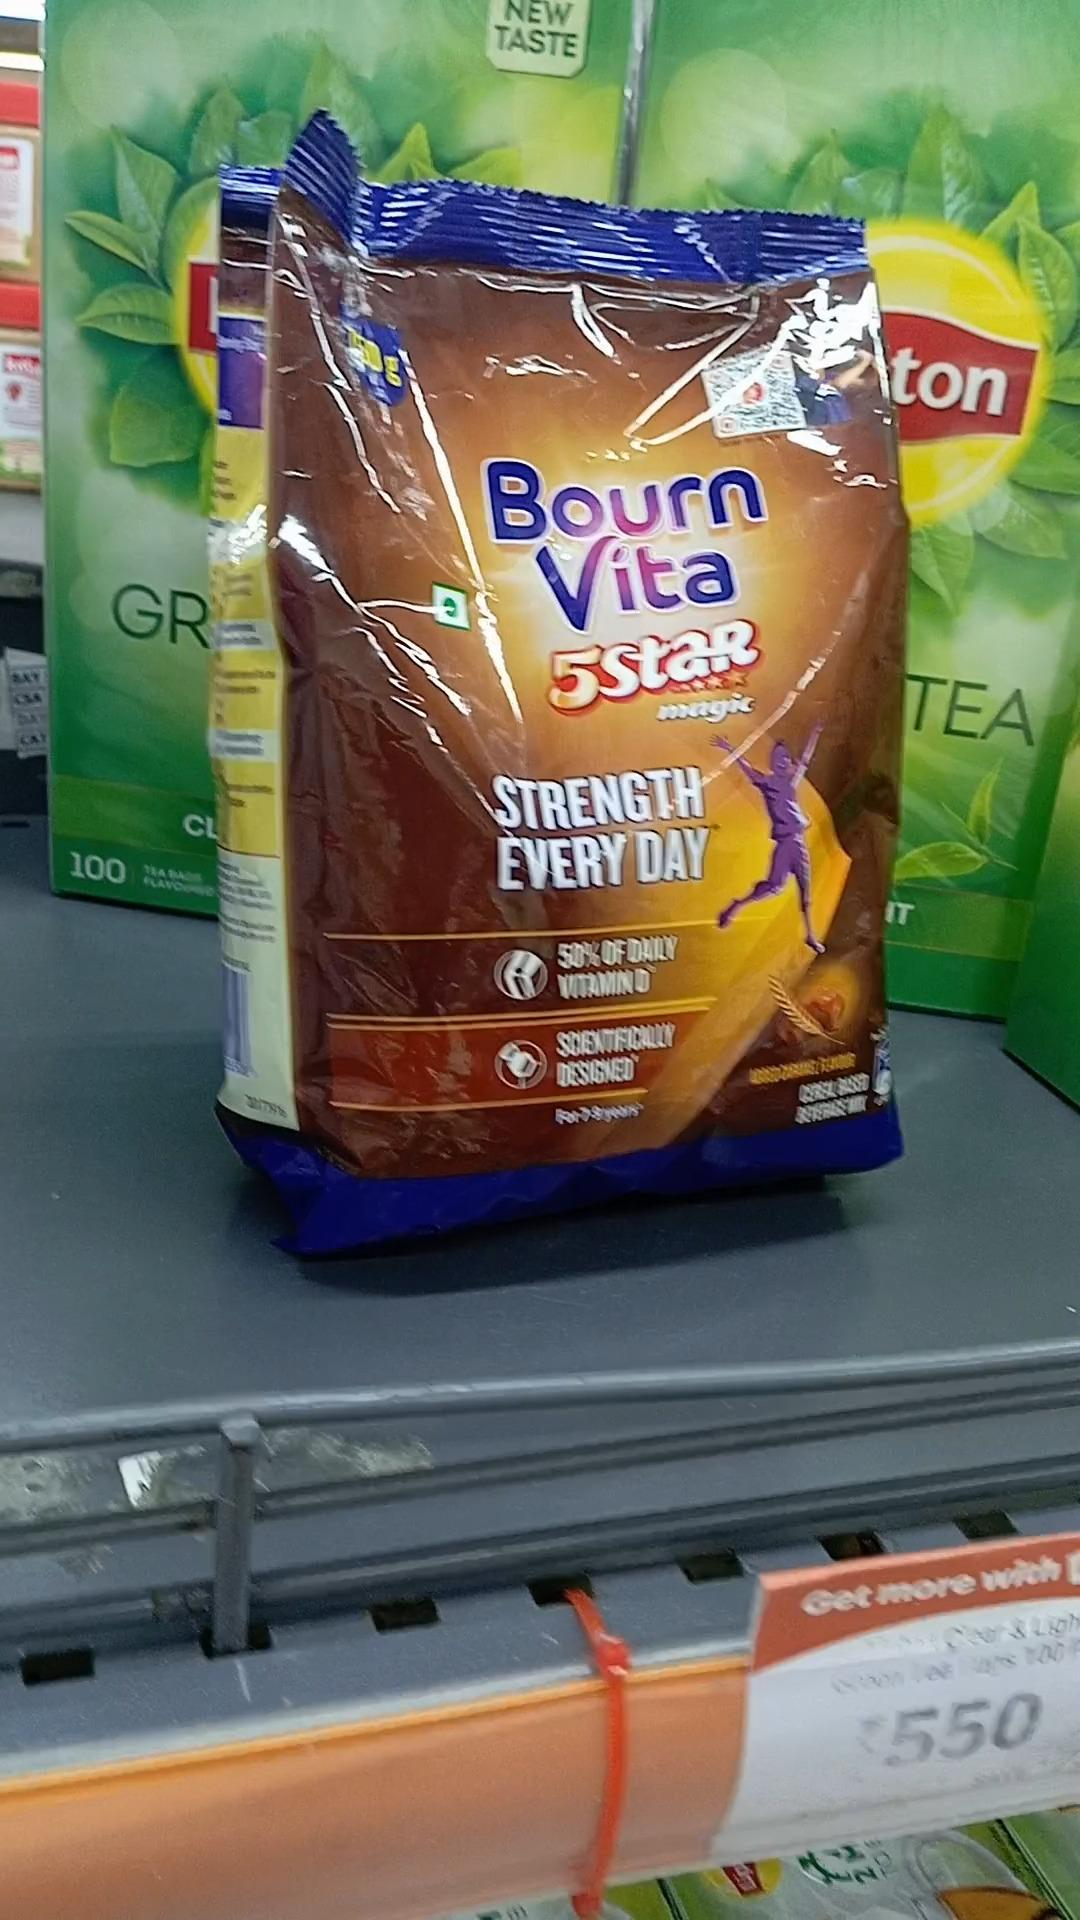BOURN_VITA_FIVE_STAR_MAGIC_750_G_POUCH: (255, 115, 897, 1201)
